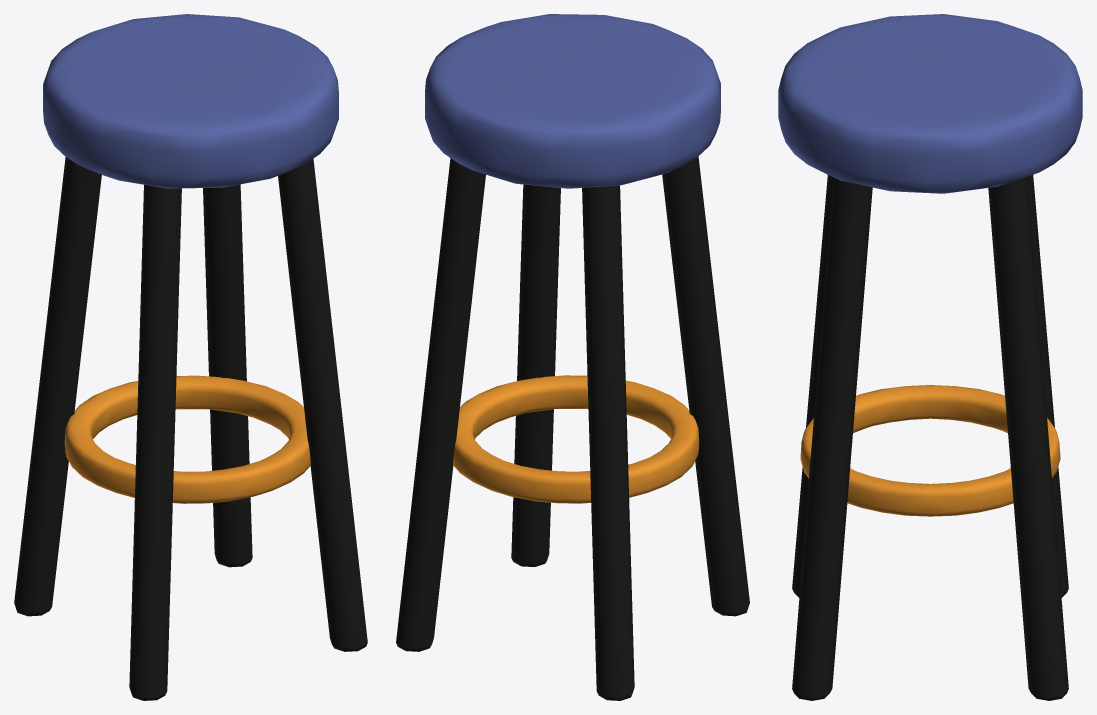
Rendered from barstool_04_blue.fbx.
The picture shows the model from 3 angles, left to right: view 1: azimuth 30°, elevation 25°; view 2: azimuth 150°, elevation 25°; view 3: azimuth 270°, elevation 25°; orthographic projection. The views are drawn at different scales.
Visible parts, largest first — view 1: barstool_04_blue; view 2: barstool_04_blue; view 3: barstool_04_blue.
Part boxes in pixels (<box>): barstool_04_blue: <box>14,14,367,700</box>; barstool_04_blue: <box>396,14,749,700</box>; barstool_04_blue: <box>778,14,1082,700</box>.
Size of the model in its own units: 43.49 by 90.36 by 43.49.
Materials: 2 (2 with a texture image).
